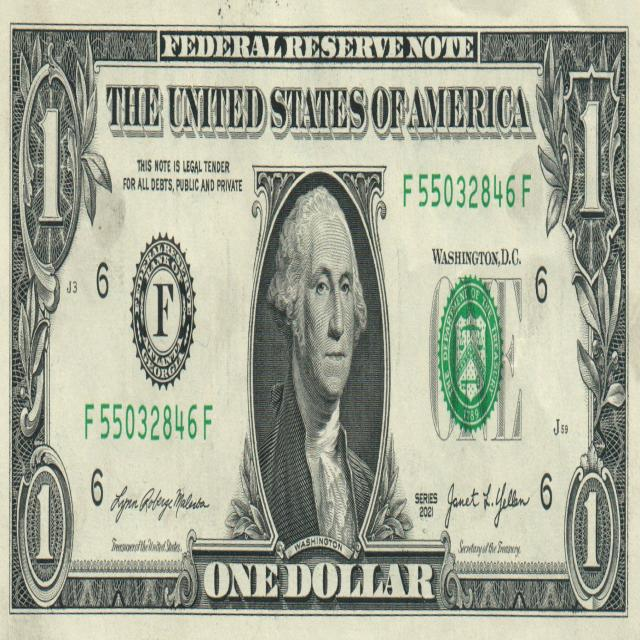SerialNumber: (403, 173, 531, 209), (100, 404, 212, 441)
